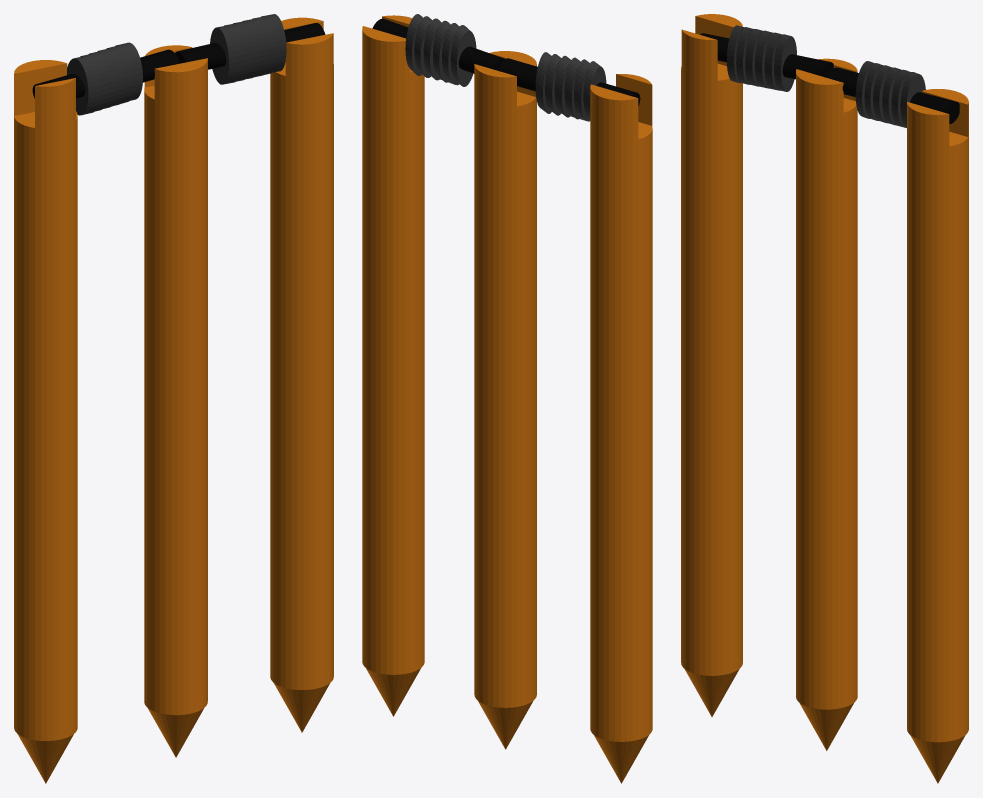
Rendered from Stumps.obj.
The picture shows the model from 3 angles, left to right: view 1: azimuth 30°, elevation 25°; view 2: azimuth 150°, elevation 25°; view 3: azimuth 330°, elevation 25°; orthographic projection. The views are drawn at different scales.
Parts seen in each view (by area): view 1: StumpLeft_StumpLeft_Cylinder.001, StumpMid_StumpMid_Cylinder, StumpRight_StumpRight_Cylinder.002, Bail.l.001_Cylinder.002_Cylinder.008, Bail.l_Cylinder.002_Cylinder.002; view 2: StumpLeft_StumpLeft_Cylinder.001, StumpMid_StumpMid_Cylinder, StumpRight_StumpRight_Cylinder.002, Bail.l.001_Cylinder.002_Cylinder.008, Bail.l_Cylinder.002_Cylinder.002; view 3: StumpRight_StumpRight_Cylinder.002, StumpLeft_StumpLeft_Cylinder.001, StumpMid_StumpMid_Cylinder, Bail.l_Cylinder.002_Cylinder.002, Bail.l.001_Cylinder.002_Cylinder.008.
Boxes of the visible parts, x1,y1,x2,y2 form: StumpLeft_StumpLeft_Cylinder.001: (14,60,77,783); StumpMid_StumpMid_Cylinder: (144,45,207,757); StumpRight_StumpRight_Cylinder.002: (270,17,333,732); Bail.l.001_Cylinder.002_Cylinder.008: (175,14,325,84); Bail.l_Cylinder.002_Cylinder.002: (32,42,179,115); StumpLeft_StumpLeft_Cylinder.001: (590,74,652,783); StumpMid_StumpMid_Cylinder: (474,51,536,749); StumpRight_StumpRight_Cylinder.002: (362,15,424,716); Bail.l.001_Cylinder.002_Cylinder.008: (372,14,505,86); Bail.l_Cylinder.002_Cylinder.002: (498,52,640,121); StumpRight_StumpRight_Cylinder.002: (907,89,968,783); StumpLeft_StumpLeft_Cylinder.001: (681,14,742,716); StumpMid_StumpMid_Cylinder: (796,58,857,750); Bail.l_Cylinder.002_Cylinder.002: (700,25,833,91); Bail.l.001_Cylinder.002_Cylinder.008: (826,61,959,127).
Size of the model in its own units: 0.6506 by 1.5 by 0.1642.
